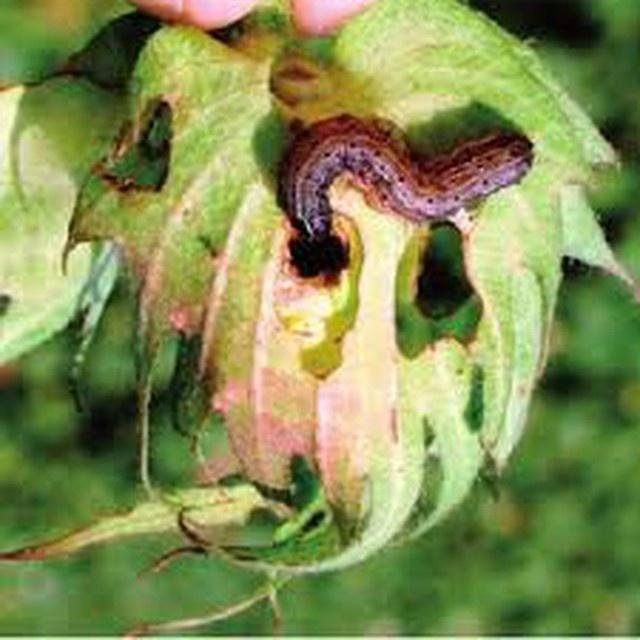gusano_cogollero: (278, 79, 530, 251)
